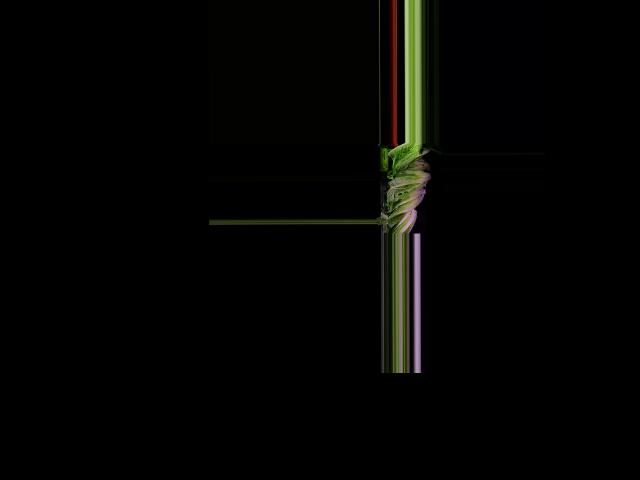lettuce: (389, 206, 418, 234)
